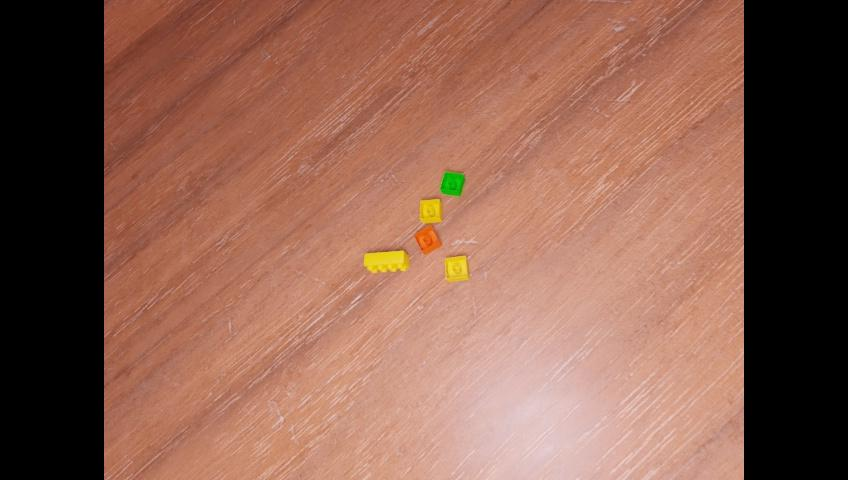2x2_green: (439, 171, 464, 196)
2x2_orange: (413, 225, 441, 255)
2x2_yellow: (444, 256, 468, 282), (420, 199, 441, 223)
4x2_yellow: (364, 250, 408, 272)
